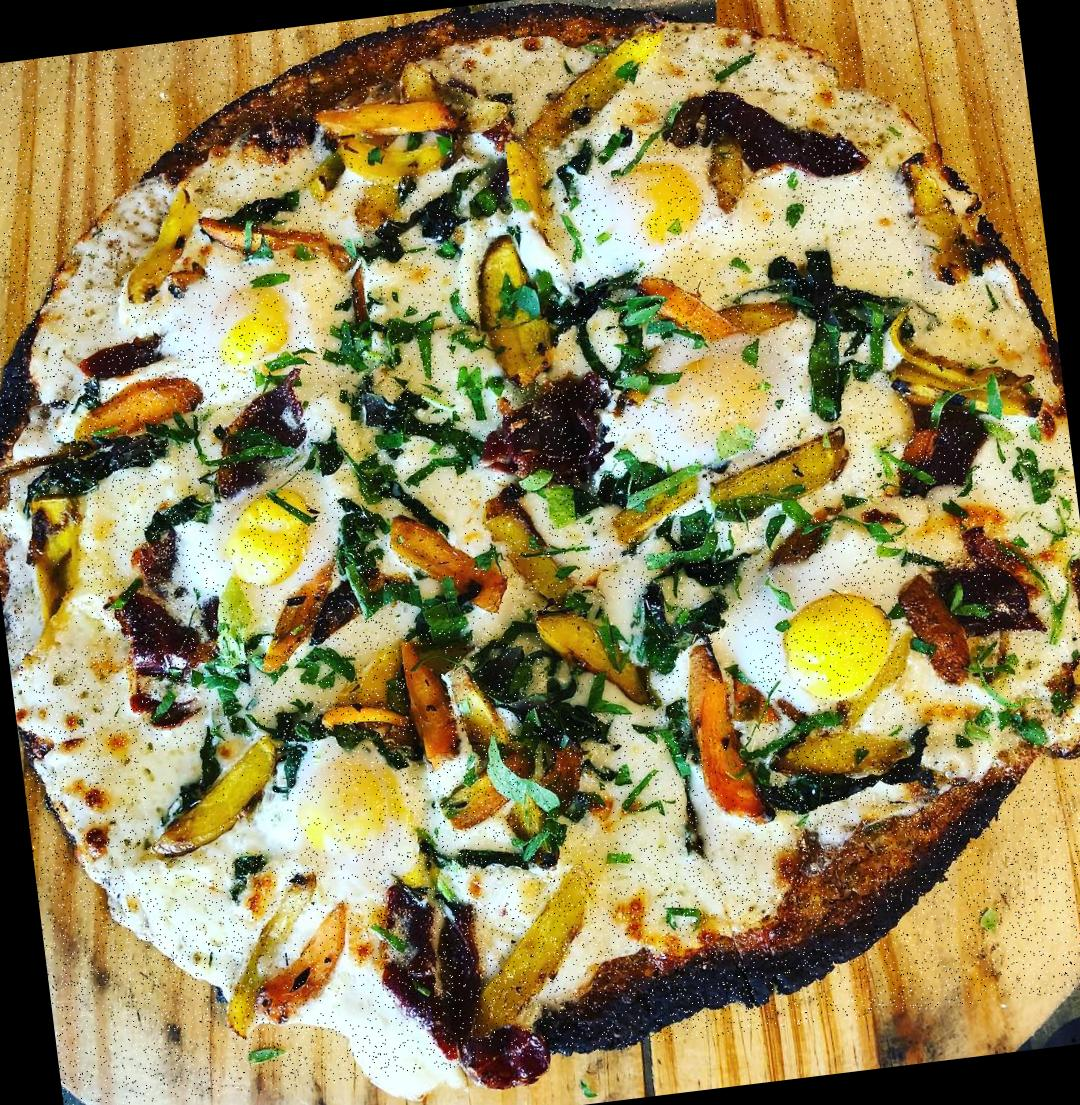Chicken: (688, 639, 770, 828), (390, 502, 515, 624), (248, 909, 364, 1029), (68, 368, 204, 446), (402, 642, 455, 763)
Peppers: (459, 869, 607, 1032), (512, 21, 682, 152), (142, 736, 291, 862), (884, 318, 1041, 431), (319, 86, 466, 182), (471, 230, 560, 386), (538, 598, 648, 720), (704, 423, 854, 510), (648, 258, 788, 344), (17, 494, 92, 652), (485, 488, 583, 608), (251, 558, 346, 673), (114, 190, 208, 302), (896, 568, 978, 690), (766, 724, 914, 786), (506, 140, 545, 233)
Pizza: (0, 0, 1080, 1105)
